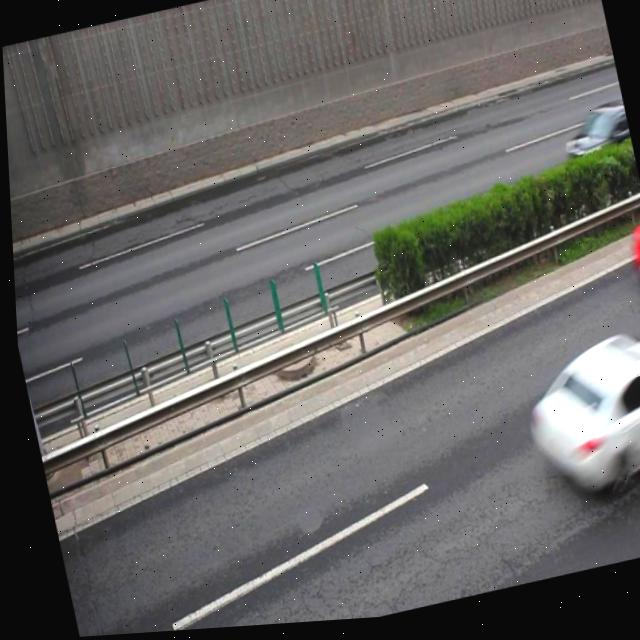car: (507, 332, 640, 513)
